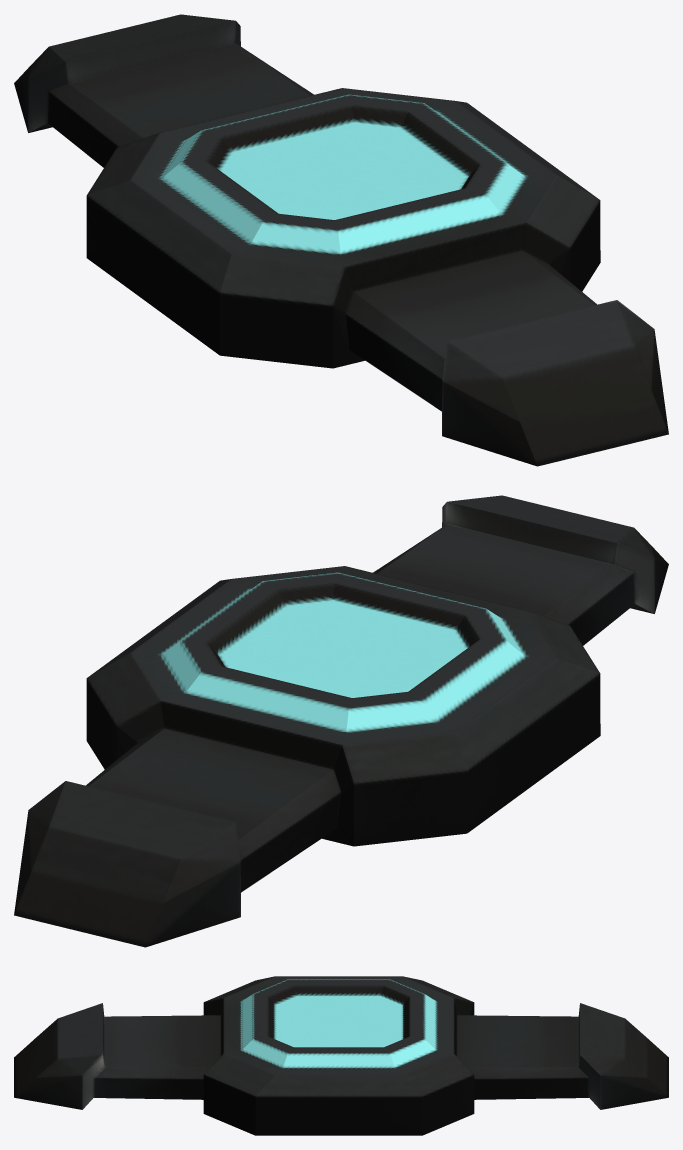
The model's file is SciFi_Conf_Room_Projcetor.FBX.
3 views of the same model, one above another, from view 1: azimuth 30°, elevation 25°; view 2: azimuth 150°, elevation 25°; view 3: azimuth 270°, elevation 25° (orthographic). The views are drawn at different scales.
Parts seen in each view (by area): view 1: SciFi_Conf_Room_Projcetor; view 2: SciFi_Conf_Room_Projcetor; view 3: SciFi_Conf_Room_Projcetor.
Part boxes in pixels (bbox=[...]): SciFi_Conf_Room_Projcetor: bbox=[14, 14, 668, 466]; SciFi_Conf_Room_Projcetor: bbox=[14, 495, 668, 947]; SciFi_Conf_Room_Projcetor: bbox=[14, 976, 668, 1135].
Bounding box in the file's own units: 237 × 57.9 × 563.
Materials: 1 (1 with a texture image).
